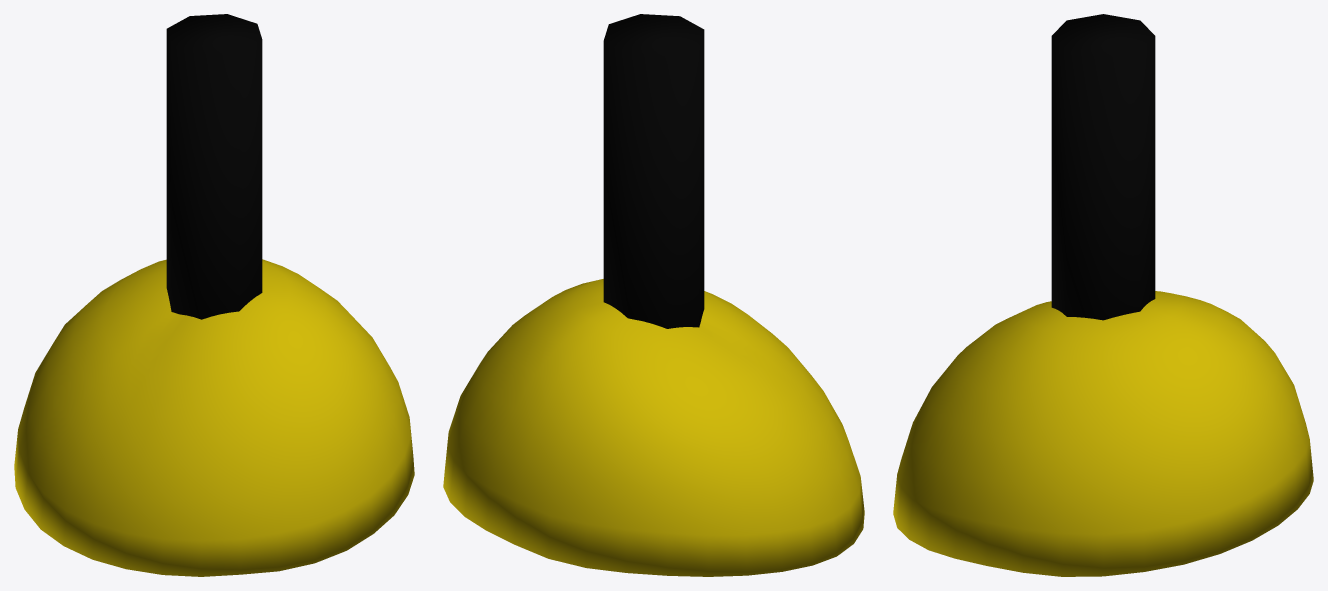
Rendered from Ceiling Lamp.fbx.
3 renders of one model, left to right at view 1: azimuth 30°, elevation 25°; view 2: azimuth 150°, elevation 25°; view 3: azimuth 270°, elevation 25°, orthographic. The views are drawn at different scales.
Visible parts, largest first — view 1: Lamp Shade, Handle; view 2: Lamp Shade, Handle; view 3: Lamp Shade, Handle.
Boxes of the visible parts, bbox=[...] form: Lamp Shade: bbox=[14, 259, 414, 576]; Handle: bbox=[166, 14, 262, 319]; Lamp Shade: bbox=[443, 279, 864, 576]; Handle: bbox=[603, 14, 704, 328]; Lamp Shade: bbox=[893, 291, 1313, 576]; Handle: bbox=[1051, 14, 1155, 320].
Size of the model in its own units: 202 by 256 by 202.
